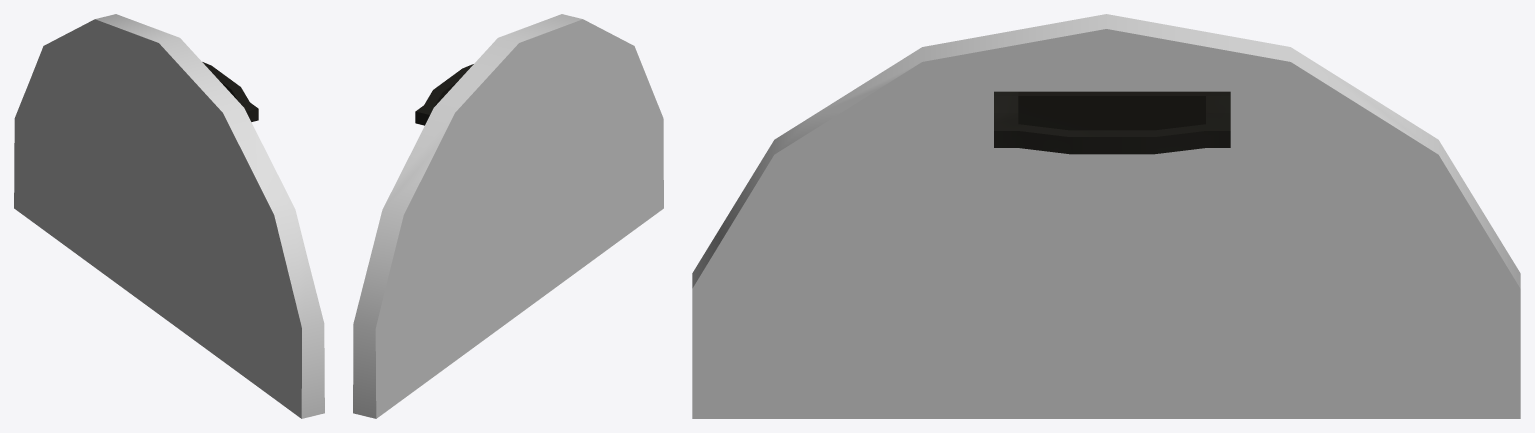
Rendered from PuertaHorno.fbx.
The picture shows the model from 3 angles, left to right: view 1: azimuth 30°, elevation 25°; view 2: azimuth 150°, elevation 25°; view 3: azimuth 270°, elevation 25°; orthographic projection. The views are drawn at different scales.
Visible parts, largest first — view 1: Cylinder.011; view 2: Cylinder.011; view 3: Cylinder.011.
Boxes of the visible parts, left/top/right/bottom form: Cylinder.011: left=14, top=14, right=324, bottom=418; Cylinder.011: left=353, top=14, right=663, bottom=418; Cylinder.011: left=692, top=14, right=1520, bottom=418.
Size of the model in its own units: 12.85 by 47.11 by 90.84.
